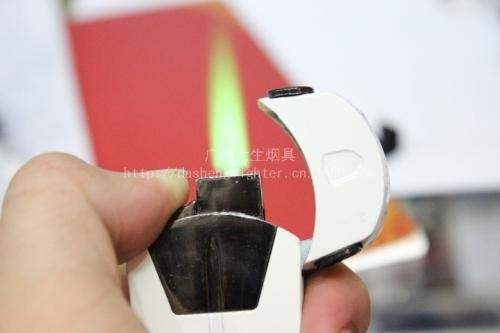fire: (206, 24, 249, 180)
